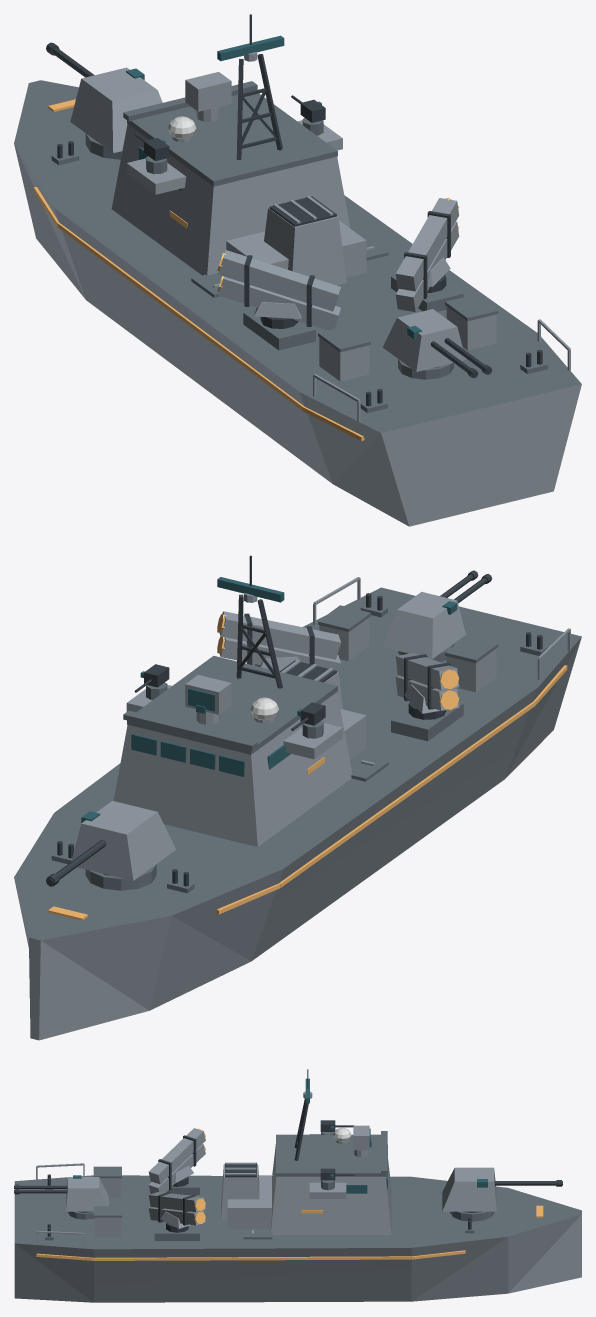
The model's file is ESC_STK_T3.fbx.
The picture shows the model from 3 angles, top to bottom: view 1: azimuth 30°, elevation 25°; view 2: azimuth 150°, elevation 25°; view 3: azimuth 270°, elevation 25°; orthographic projection. The views are drawn at different scales.
Parts seen in each view (by area): view 1: ContinuousHull.015, Deckhouse.015, Roof.015, PrimaryGunCupola.015, FunnelEnclosure.015, AftGunCupola.002, MissileBankPortTube2, MissileBankStarboardTube2, AftEngineHouse, MissileBankPortTube1, RoleHullStripe-1_1, AftAmmoLocker-1 (+12 smaller); view 2: ContinuousHull.015, Deckhouse.015, Roof.015, PrimaryGunCupola.015, AftGunCupola.002, MissileBankStarboardTube2, RoleHullStripe-1_1, BridgeBrow, MissileBankPortFoundation, AftAmmoLocker-1, BridgeWing-1, MissileBankStarboardTube1 (+10 smaller); view 3: ContinuousHull.015, Deckhouse.015, Roof.015, PrimaryGunCupola.015, AftEngineHouse, AftGunCupola.002, RoleHullStripe1_1, MissileBankPortTube2, FunnelEnclosure.015, MissileBankStarboardTube2, MissileBankStarboardFoundation, AftAmmoLocker1 (+11 smaller).
Boxes of the visible parts, x1,y1,x2,y2 form: ContinuousHull.015: (14,80,581,526); Deckhouse.015: (111,124,350,275); Roof.015: (127,93,337,186); PrimaryGunCupola.015: (70,67,162,153); FunnelEnclosure.015: (264,207,346,285); AftGunCupola.002: (382,309,465,371); MissileBankPortTube2: (218,250,340,311); MissileBankStarboardTube2: (395,198,459,291); AftEngineHouse: (226,220,366,277); MissileBankPortTube1: (218,276,340,330); RoleHullStripe-1_1: (57,222,304,410); AftAmmoLocker-1: (319,337,369,381); ContinuousHull.015: (14,587,581,1040); Deckhouse.015: (113,692,352,846); Roof.015: (127,655,337,754); PrimaryGunCupola.015: (71,801,176,880); AftGunCupola.002: (383,591,465,658); MissileBankStarboardTube2: (219,611,340,659); RoleHullStripe-1_1: (279,701,535,887); BridgeBrow: (123,710,257,750); MissileBankPortFoundation: (391,702,463,741); AftAmmoLocker-1: (446,648,496,692); BridgeWing-1: (283,723,342,759); MissileBankStarboardTube1: (219,637,340,671); ContinuousHull.015: (14,1175,581,1302); Deckhouse.015: (270,1144,391,1234); Roof.015: (276,1134,386,1176); PrimaryGunCupola.015: (442,1167,496,1211); AftEngineHouse: (227,1175,271,1228); AftGunCupola.002: (66,1177,108,1211); RoleHullStripe1_1: (94,1256,411,1260); MissileBankPortTube2: (148,1128,205,1184); FunnelEnclosure.015: (221,1164,259,1220); MissileBankStarboardTube2: (148,1192,205,1212); MissileBankStarboardFoundation: (154,1222,199,1240); AftAmmoLocker1: (94,1217,121,1236).
Size of the model in its own units: 281 by 362 by 901.
